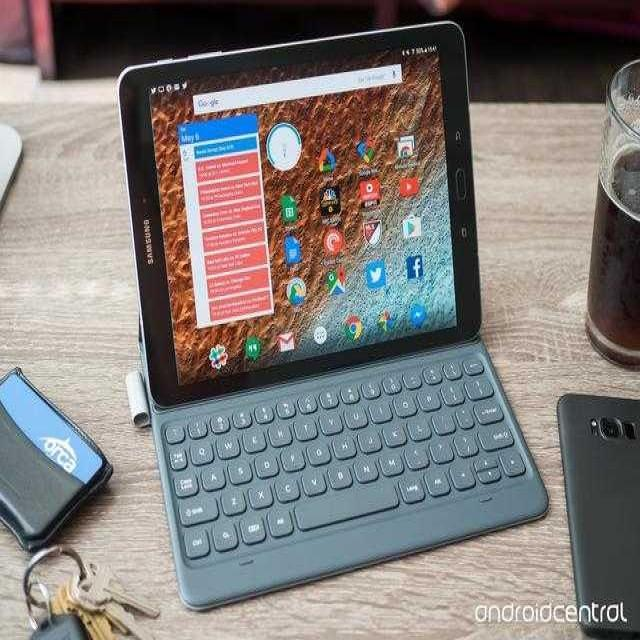keyboard: (153, 344, 552, 606)
